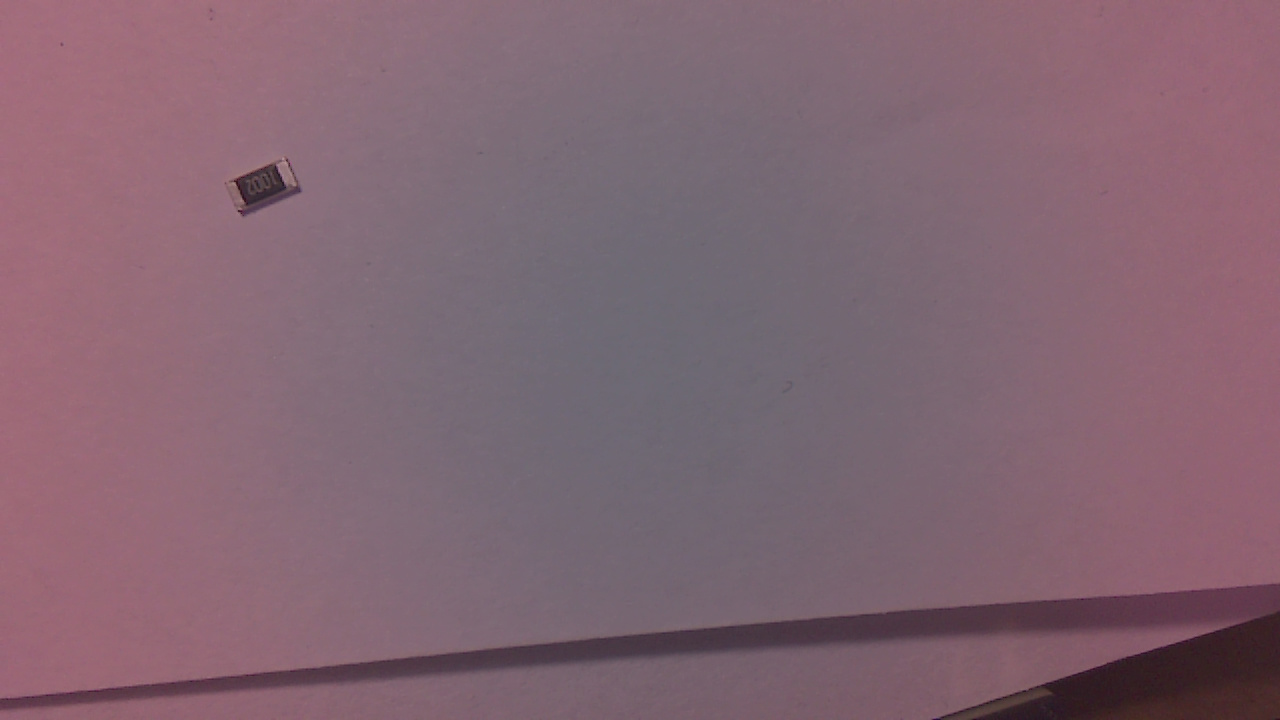Resistor: (233, 161, 307, 222)
